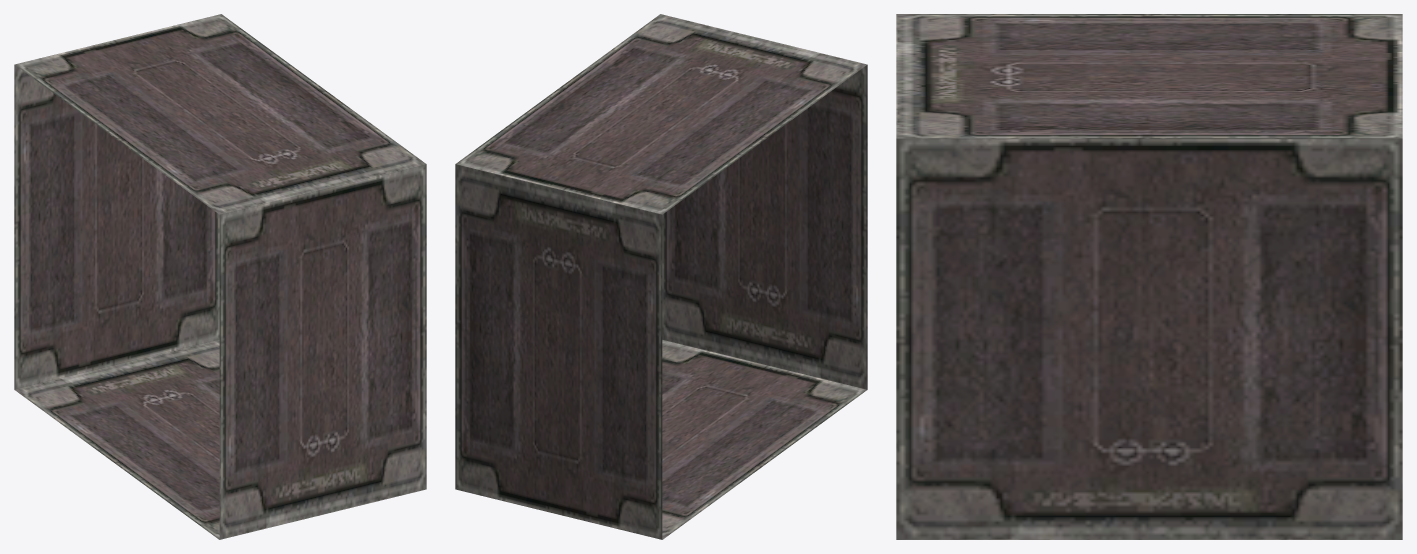
File: thm_newbie_hall_skippedtutorial_r0_mesh_l0.fbx
The picture shows the model from 3 angles, left to right: view 1: azimuth 30°, elevation 25°; view 2: azimuth 150°, elevation 25°; view 3: azimuth 270°, elevation 25°; orthographic projection. The views are drawn at different scales.
Visible parts, largest first — view 1: mesh_node; view 2: mesh_node; view 3: mesh_node.
Boxes of the visible parts, x1,y1,x2,y2 form: mesh_node: (14, 14, 426, 539); mesh_node: (455, 14, 867, 539); mesh_node: (896, 14, 1402, 539).
Bounding box in the file's own units: 4.66 × 7 × 8.
